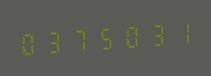five: (92, 20, 116, 55)
one: (167, 15, 191, 49)
seven: (67, 22, 91, 56)
three: (42, 24, 66, 58), (142, 17, 166, 51)
zero: (17, 26, 41, 60), (117, 19, 141, 53)
